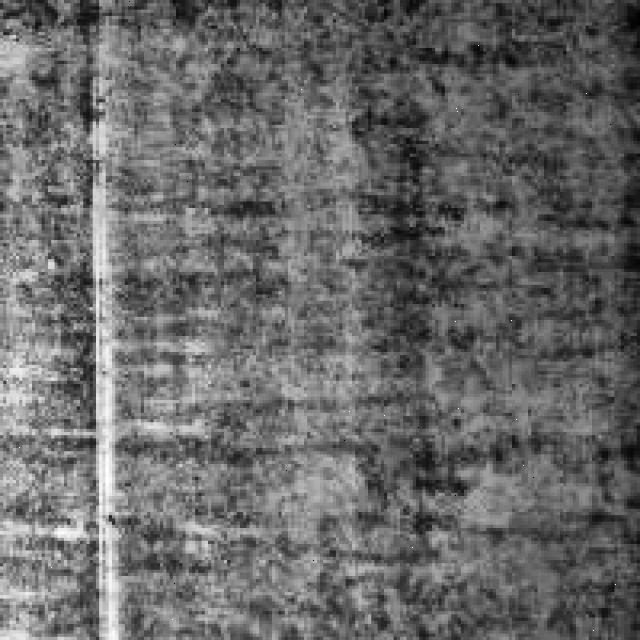Inclusion: (90, 106, 131, 634)
